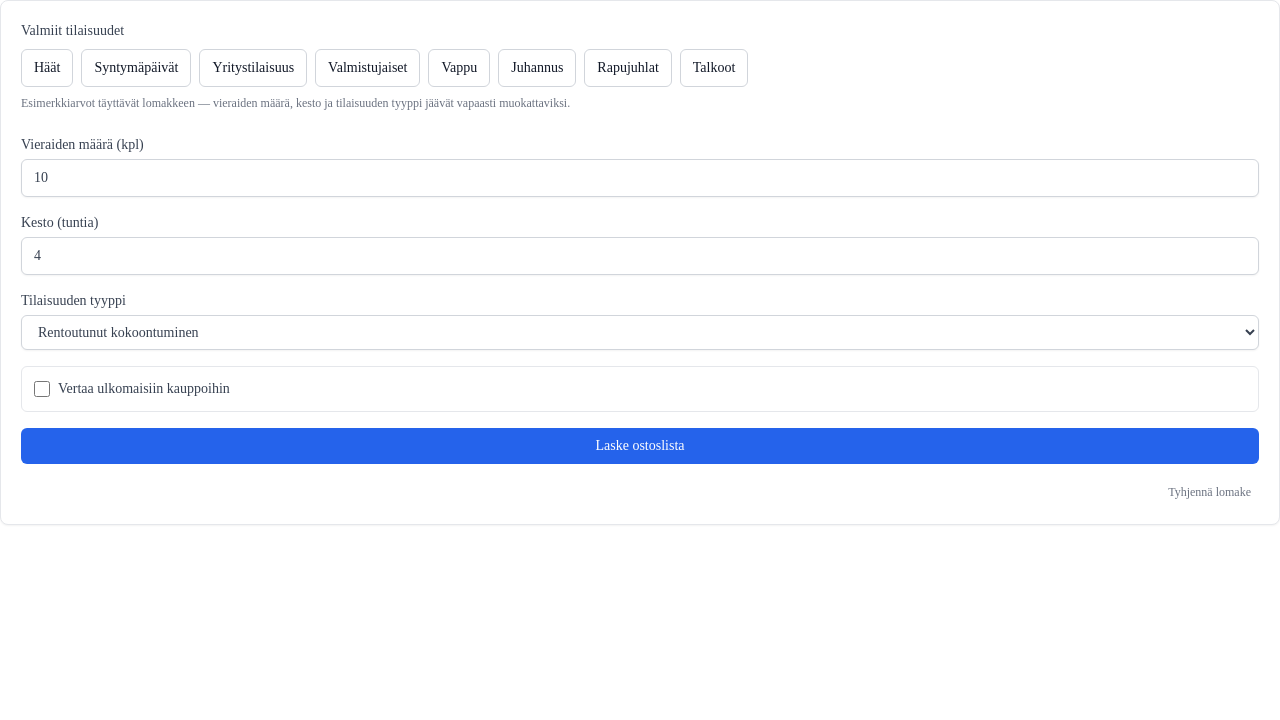
Test case: EventPage › renders the COMPUTED shopping list with per-line figures, norms version, and the structural disclaimer
The width and height of the screenshot is (1280, 720).
What coordinates should you click on to do the following:
click the button "Laske ostoslista"
I would click on:
 (640, 446)
Its box is [21,428,1259,464].
(page scrolled)
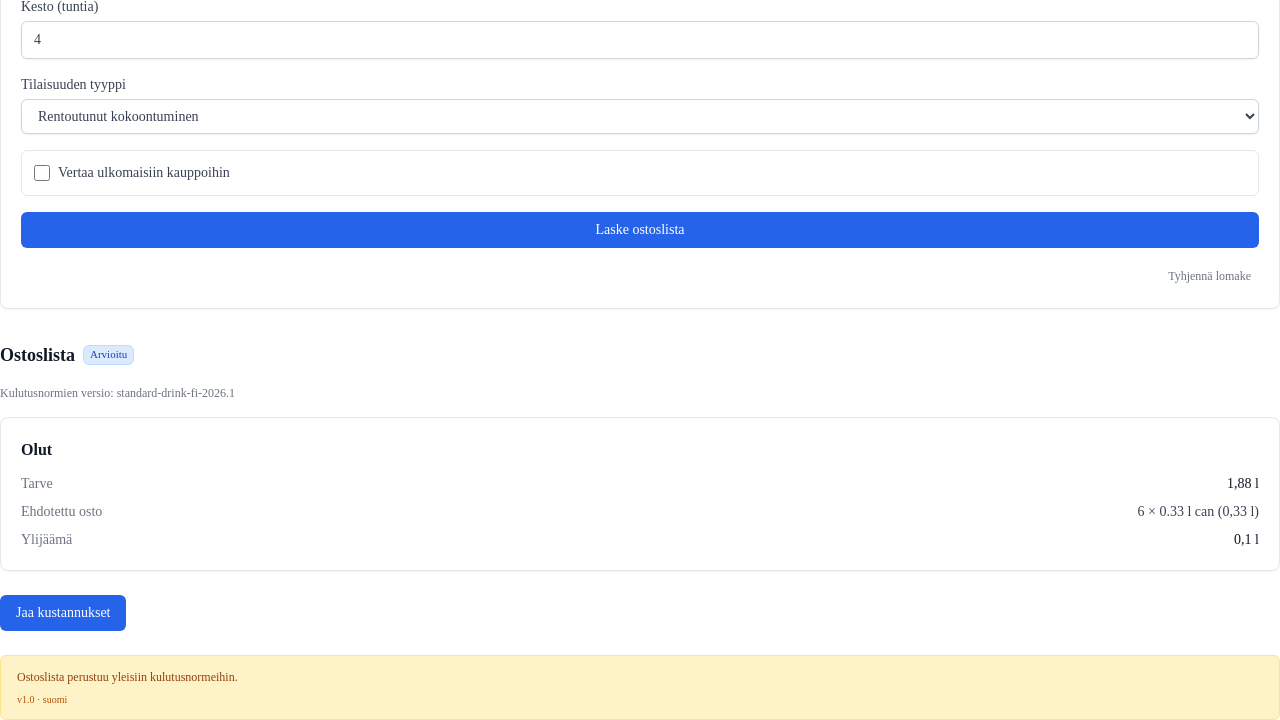
expect the element with test id "event-result" is shown: met, box [0,341,1279,719]
expect the heading "Olut" is shown: met, box [21,441,52,458]
expect the text "1,88 l" is shown: met, box [1227,474,1259,494]
